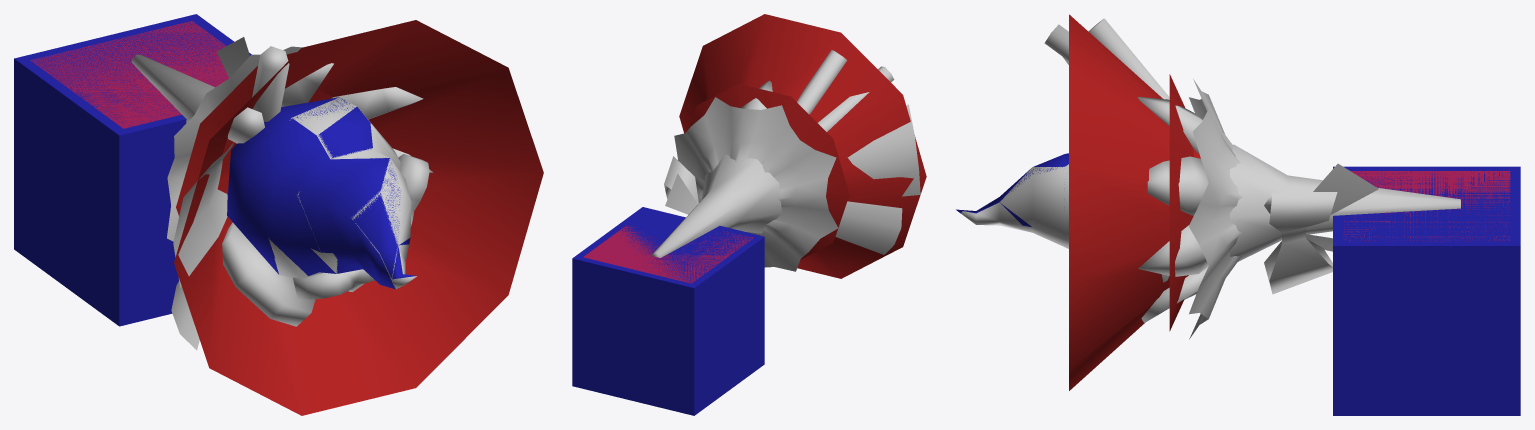
3 renders of one model, left to right at view 1: azimuth 30°, elevation 25°; view 2: azimuth 150°, elevation 25°; view 3: azimuth 270°, elevation 25°, orthographic. The views are drawn at different scales.
Visible parts, largest first — view 1: object0041_Cone01, object0075_Box, object0004_W187, "object0036_Editable Poly", object0072_Box; view 2: object0075_Box, object0004_W187, object0041_Cone01, object0072_Box; view 3: object0075_Box, object0004_W187, object0041_Cone01, object0072_Box, "object0036_Editable Poly".
Boxes of the visible parts, x1,y1,x2,y2 form: object0041_Cone01: [174, 20, 543, 415]; object0075_Box: [14, 14, 251, 326]; object0004_W187: [131, 37, 432, 350]; "object0036_Editable Poly": [227, 97, 416, 289]; object0072_Box: [30, 21, 228, 128]; object0075_Box: [572, 207, 764, 415]; object0004_W187: [652, 50, 920, 271]; object0041_Cone01: [679, 14, 926, 278]; object0072_Box: [583, 225, 752, 283]; object0075_Box: [1333, 166, 1520, 415]; object0004_W187: [961, 18, 1460, 339]; object0041_Cone01: [1069, 14, 1200, 390]; object0072_Box: [1343, 171, 1510, 241]; "object0036_Editable Poly": [956, 153, 1068, 226].
Size of the model in its own units: 0.9124 by 0.8932 by 1.36.
